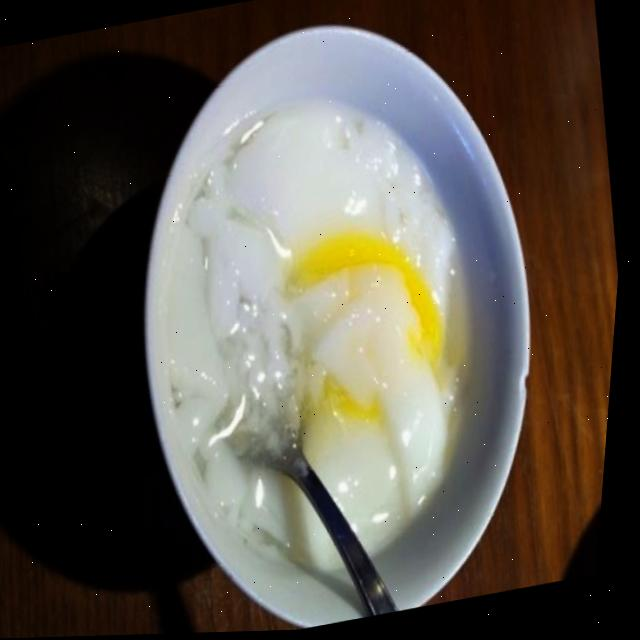汉堡快餐: (0, 57, 636, 640)
